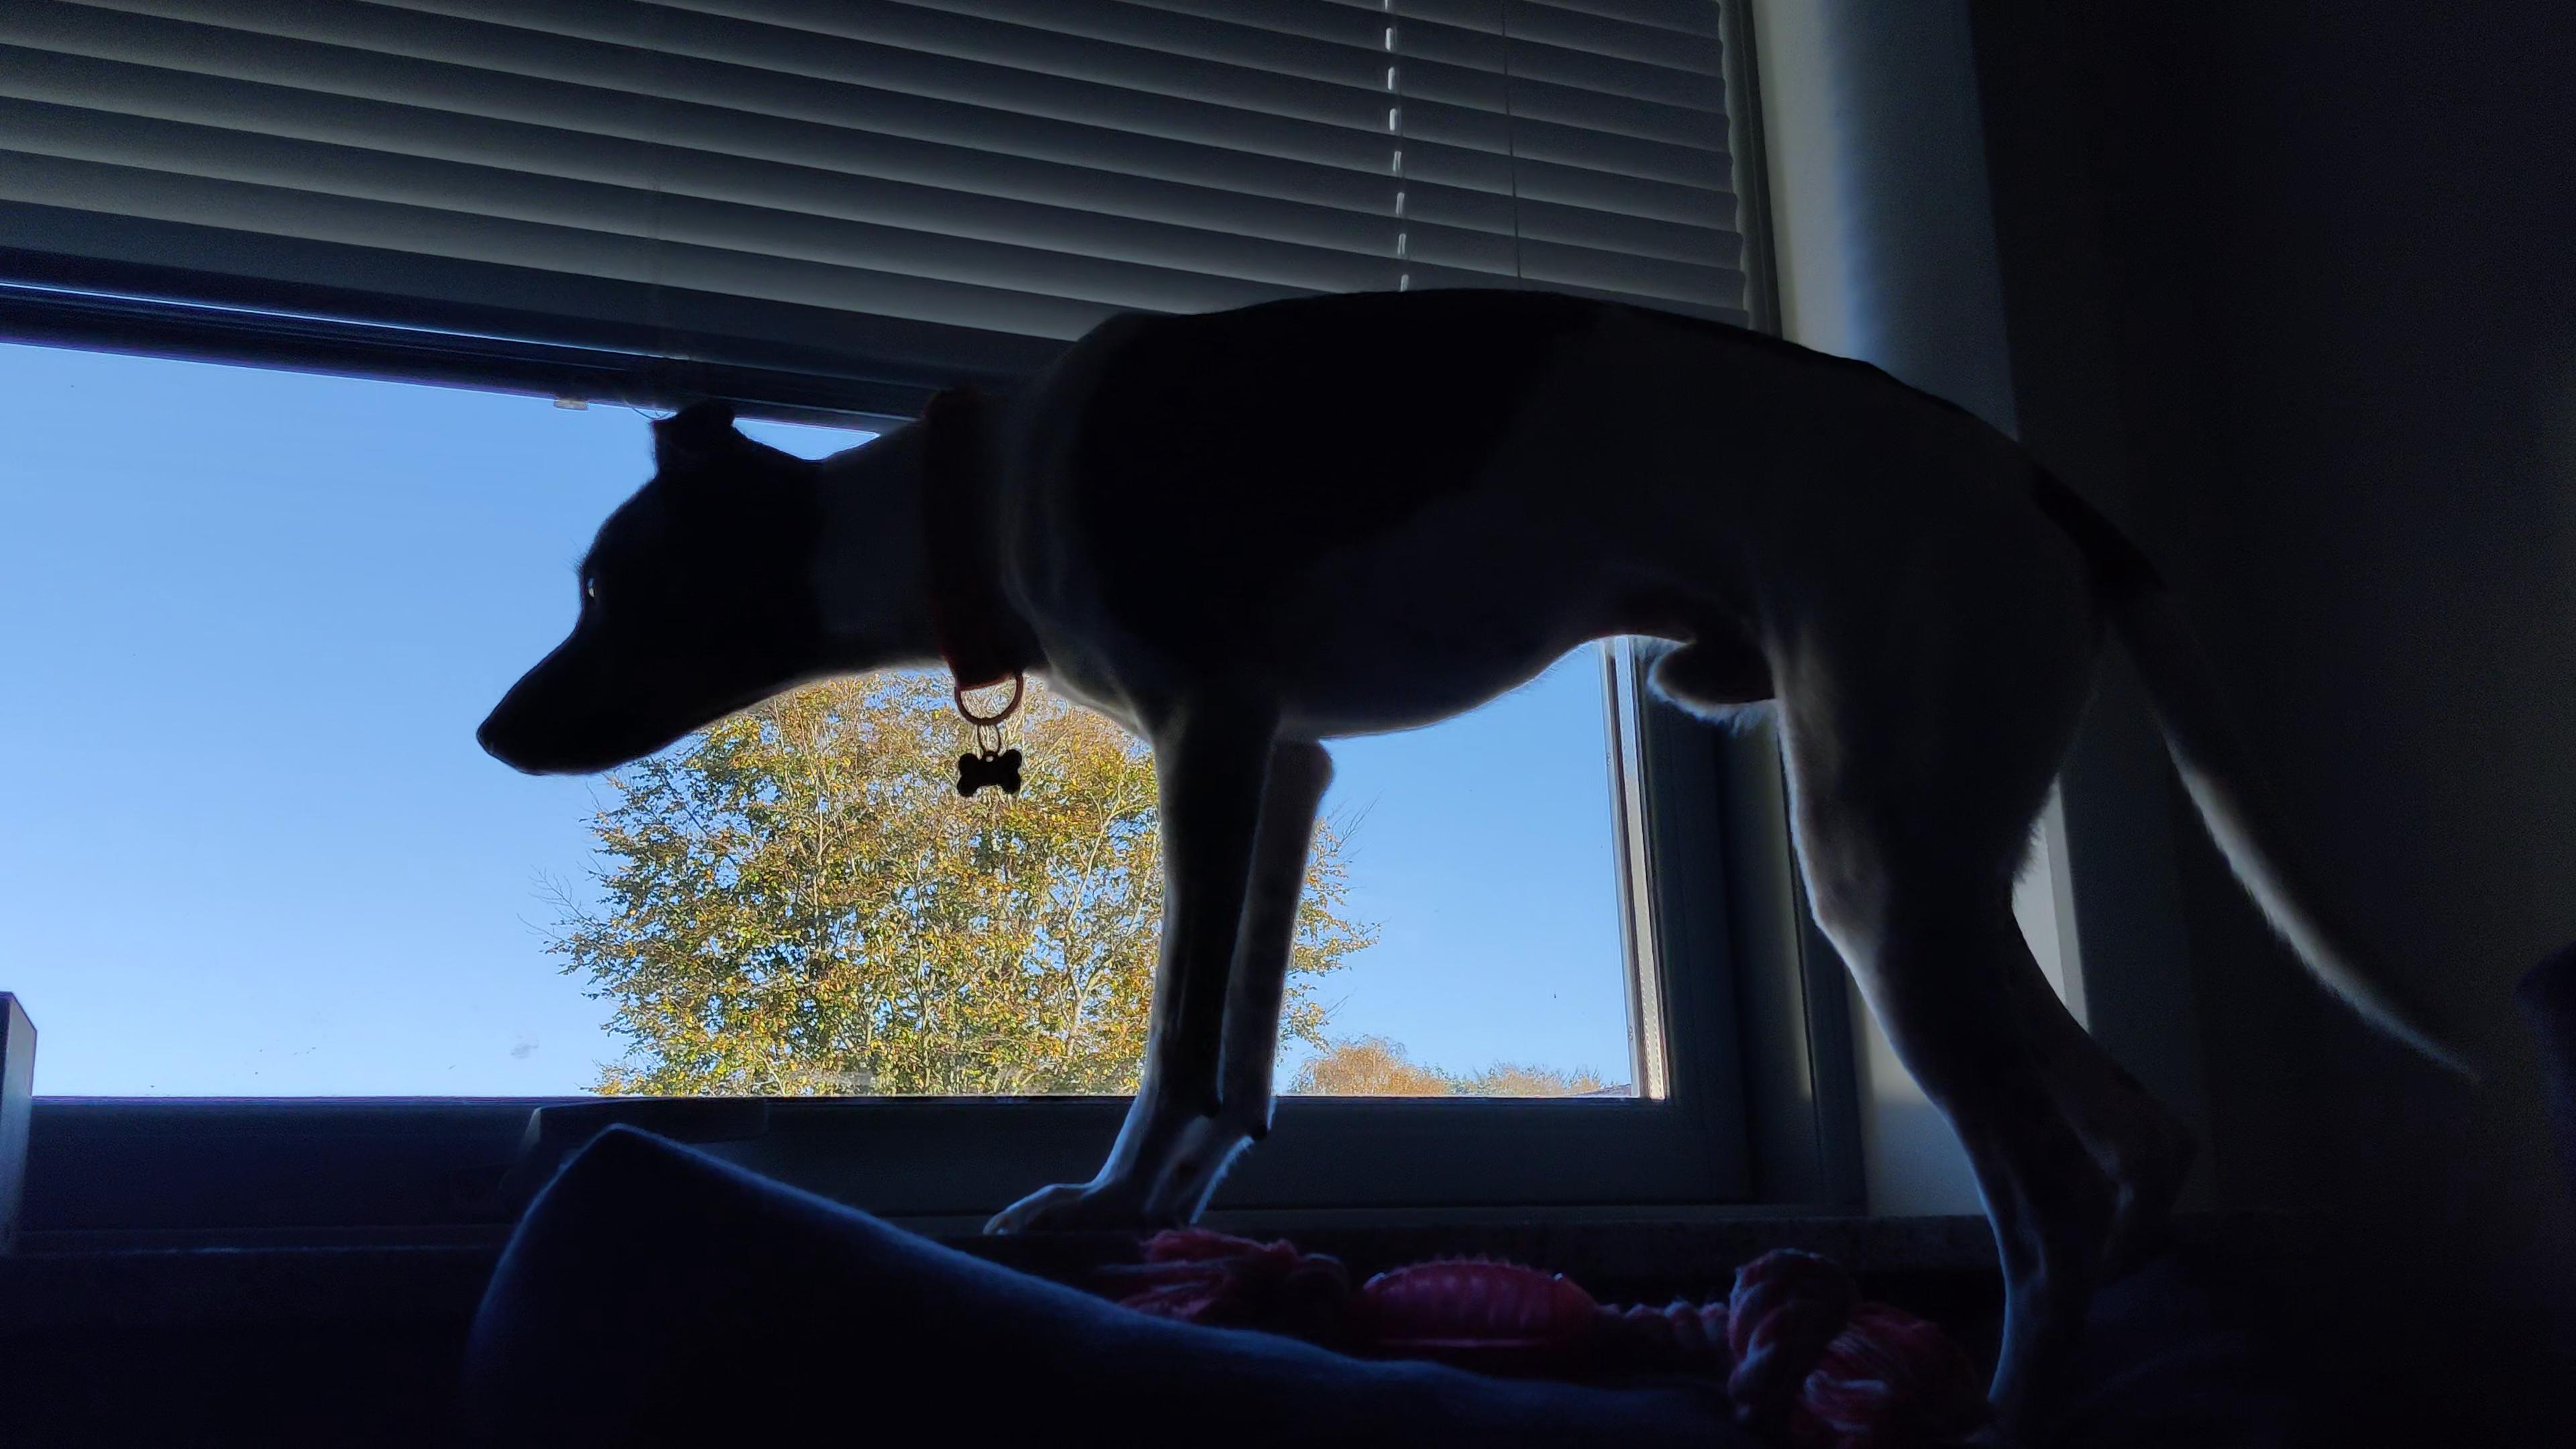Dog: (474, 271, 2576, 1414)
